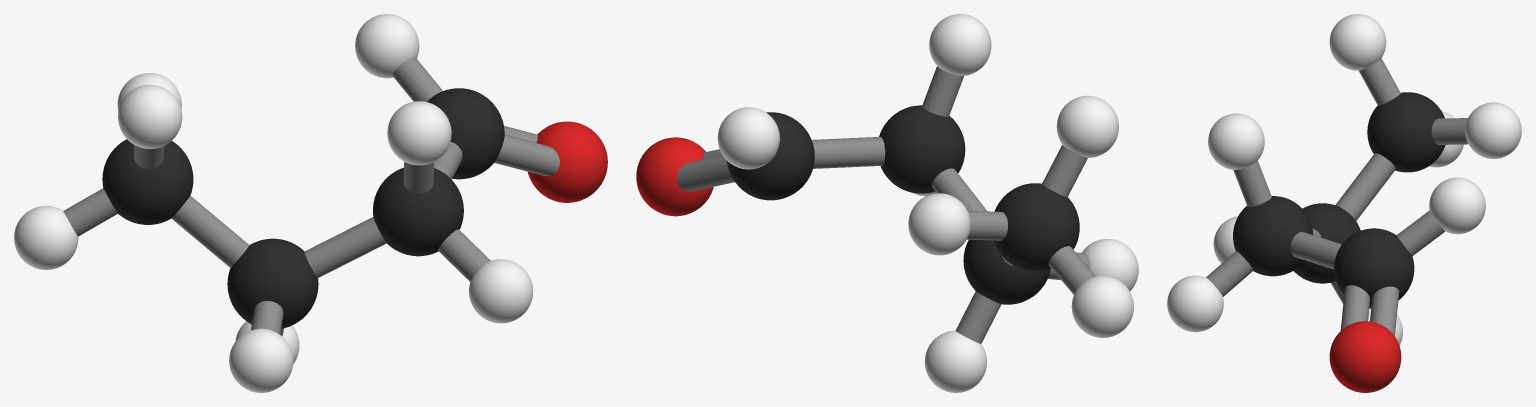
File: butanal.glb
3 renders of one model, left to right at view 1: azimuth 30°, elevation 25°; view 2: azimuth 150°, elevation 25°; view 3: azimuth 270°, elevation 25°, orthographic. The views are drawn at different scales.
Parts seen in each view (by area): view 1: C_1, C_2, C_0, O_4, C_3, H_10, H_8, H_5, H_11, H_7, H_12, B1 (+11 smaller); view 2: C_2, C_0, O_4, C_3, C_1, H_6, H_7, H_12, H_10, H_5, H_9, B2 (+8 smaller); view 3: C_0, C_2, C_3, O_4, H_6, H_10, H_5, H_11, H_12, C_1, B0, B2 (+9 smaller).
Part boxes in pixels (x1,y1,x2,y2): C_1: (227, 238, 318, 328); C_2: (373, 167, 463, 256); C_0: (102, 139, 193, 224); O_4: (528, 121, 607, 202); C_3: (427, 88, 504, 179); H_10: (387, 101, 451, 165); H_8: (229, 328, 293, 392); H_5: (118, 84, 182, 148); H_11: (469, 259, 533, 323); H_7: (14, 205, 78, 269); H_12: (355, 14, 419, 78); B1: (304, 217, 386, 277); C_2: (879, 105, 965, 193); C_0: (993, 183, 1079, 271); O_4: (636, 137, 713, 216); C_3: (727, 112, 814, 200); C_1: (963, 239, 1050, 304); H_6: (908, 193, 970, 255); H_7: (1071, 275, 1133, 337); H_12: (717, 107, 779, 169); H_10: (929, 14, 991, 75); H_5: (1056, 95, 1118, 157); H_9: (924, 330, 986, 392); B2: (812, 136, 885, 168); C_0: (1367, 92, 1445, 172); C_2: (1233, 196, 1312, 276); C_3: (1334, 228, 1414, 308); O_4: (1329, 321, 1401, 392); H_6: (1465, 102, 1521, 158); H_10: (1208, 113, 1264, 169); H_5: (1329, 14, 1386, 70); H_11: (1167, 275, 1223, 332); H_12: (1429, 177, 1485, 234); C_1: (1293, 203, 1360, 283); B0: (1335, 153, 1395, 220); B2: (1290, 232, 1341, 269).
Bounding box in the file's own units: 5.86 × 3.34 × 3.75.
